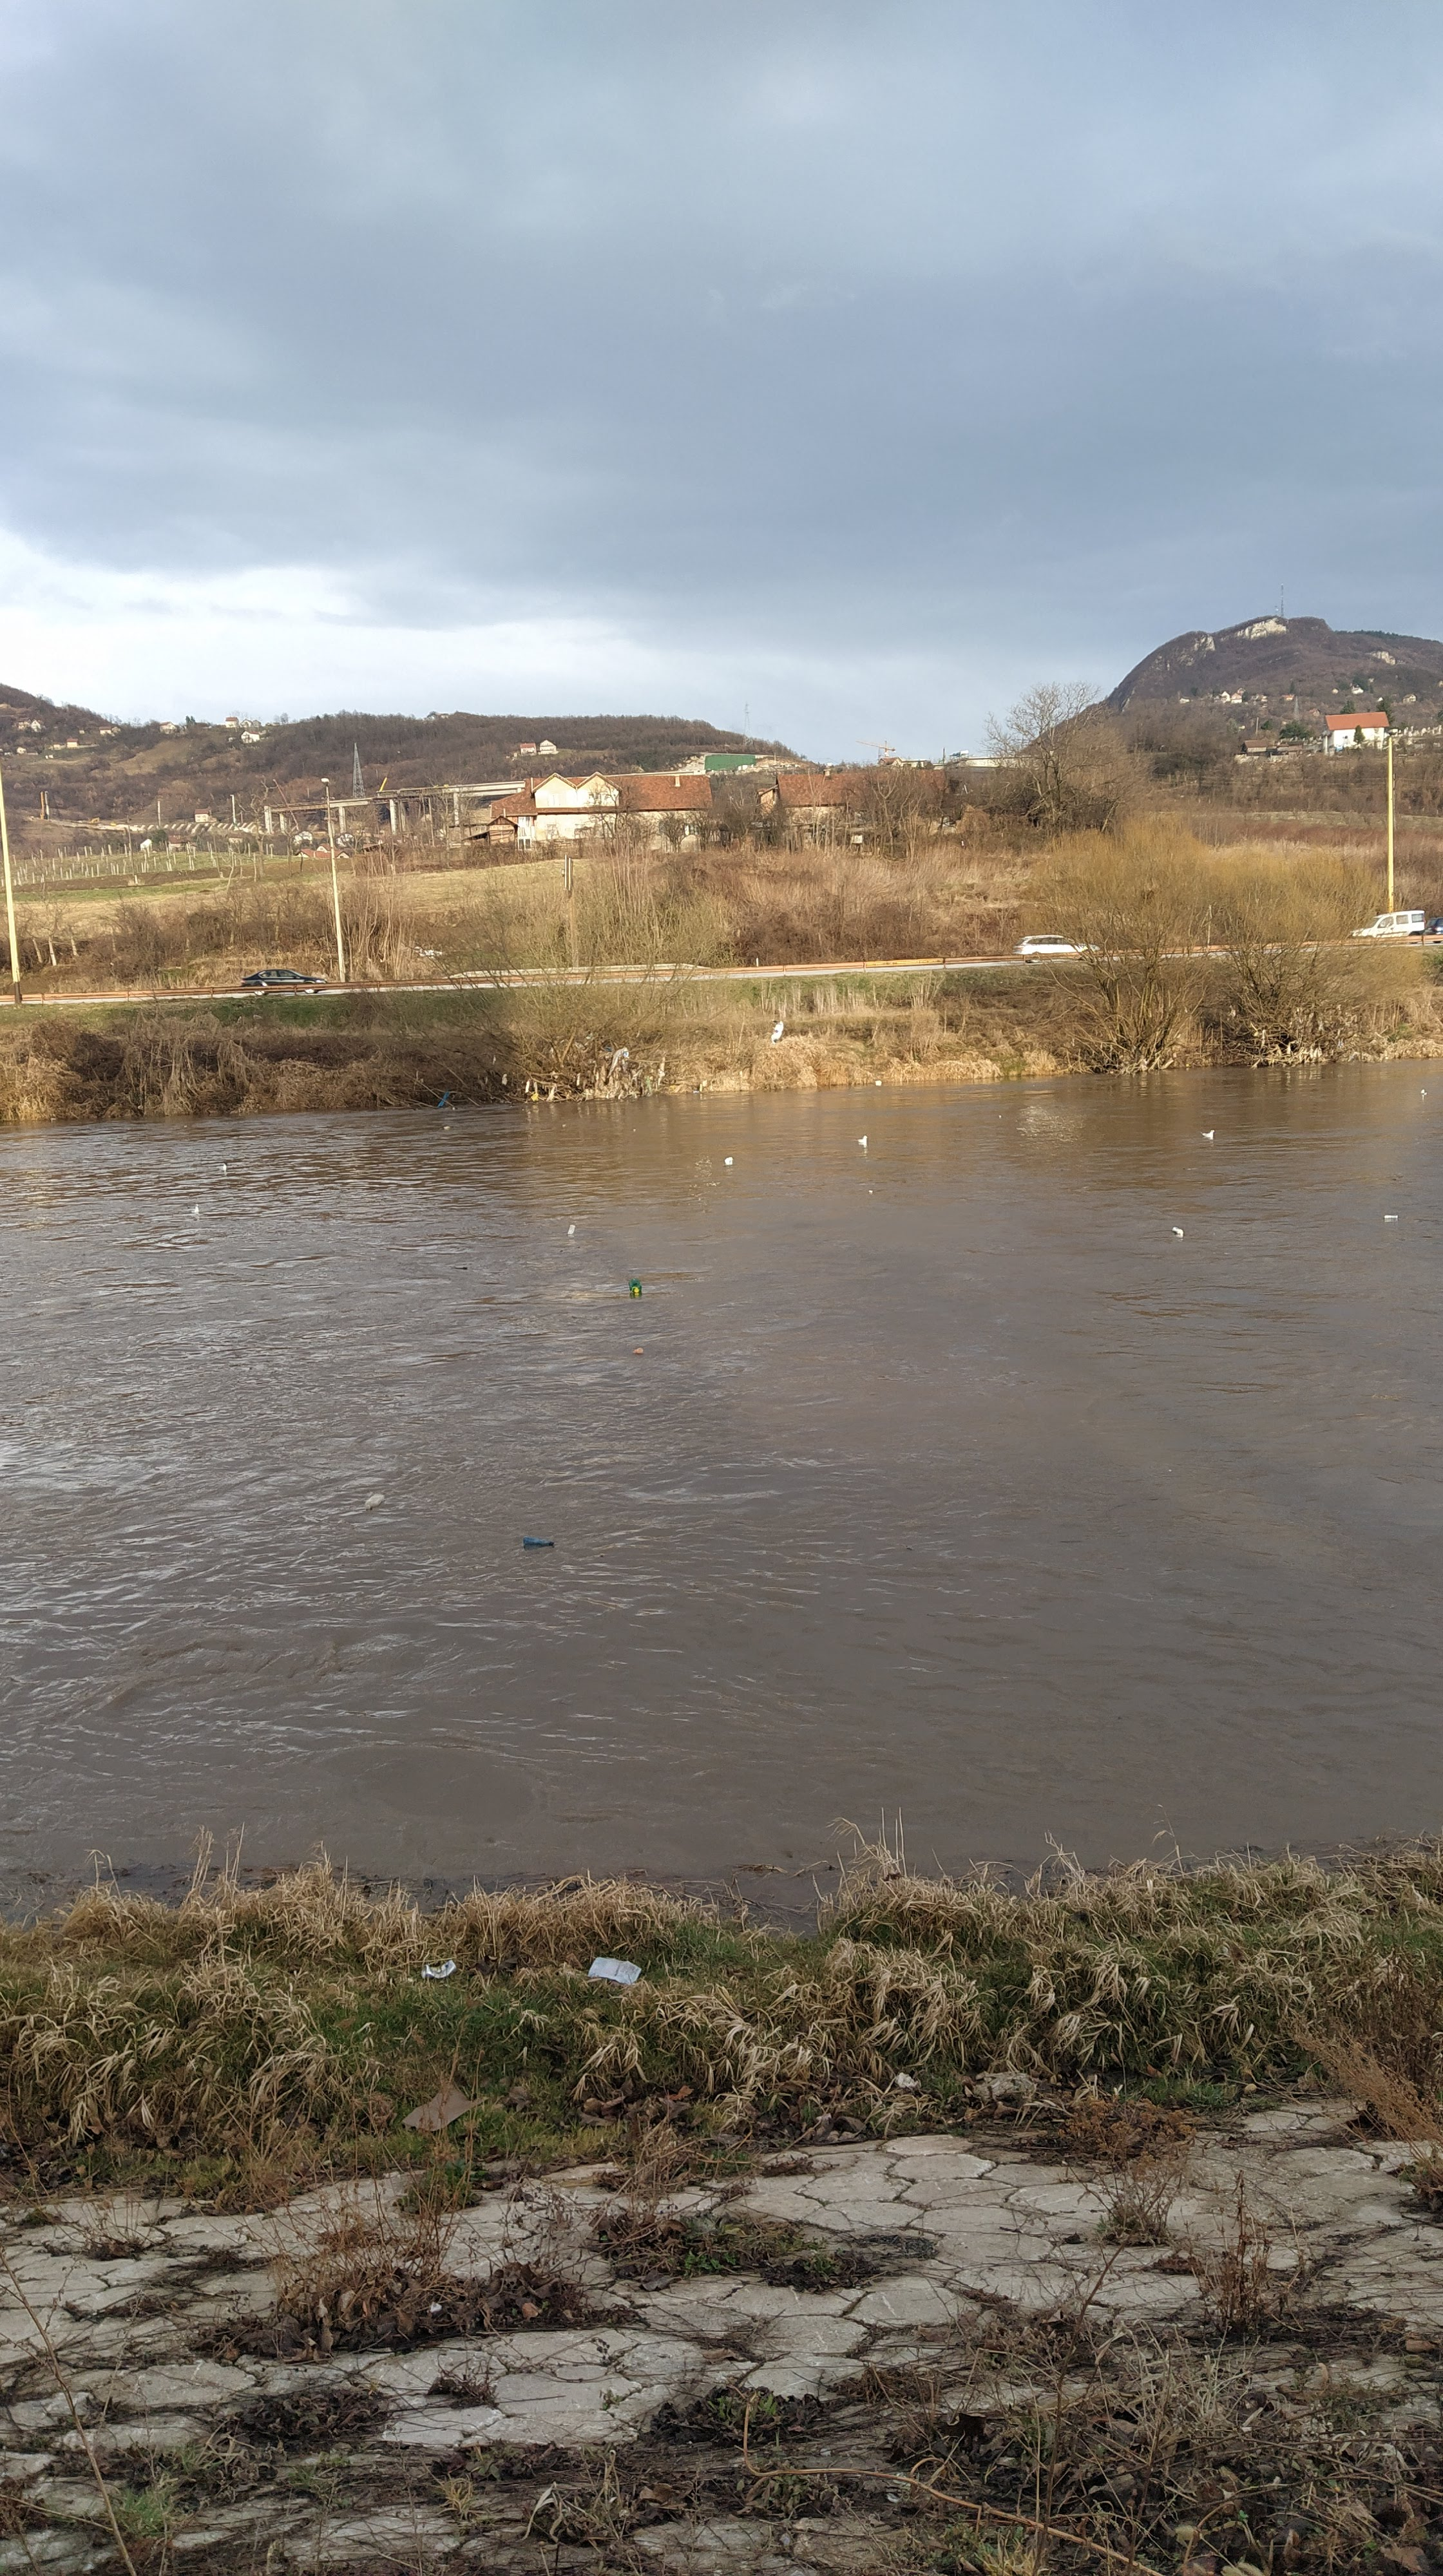Plastic Bottle: (365, 1493, 382, 1511), (524, 1537, 554, 1546), (629, 1277, 641, 1295), (1172, 1226, 1183, 1235), (568, 1224, 575, 1235), (632, 1348, 643, 1353), (1385, 1215, 1399, 1219)
